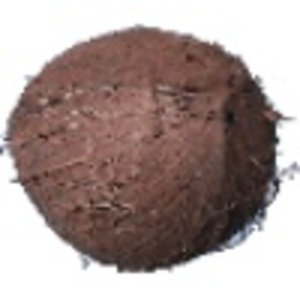coco: (1, 28, 300, 273)
